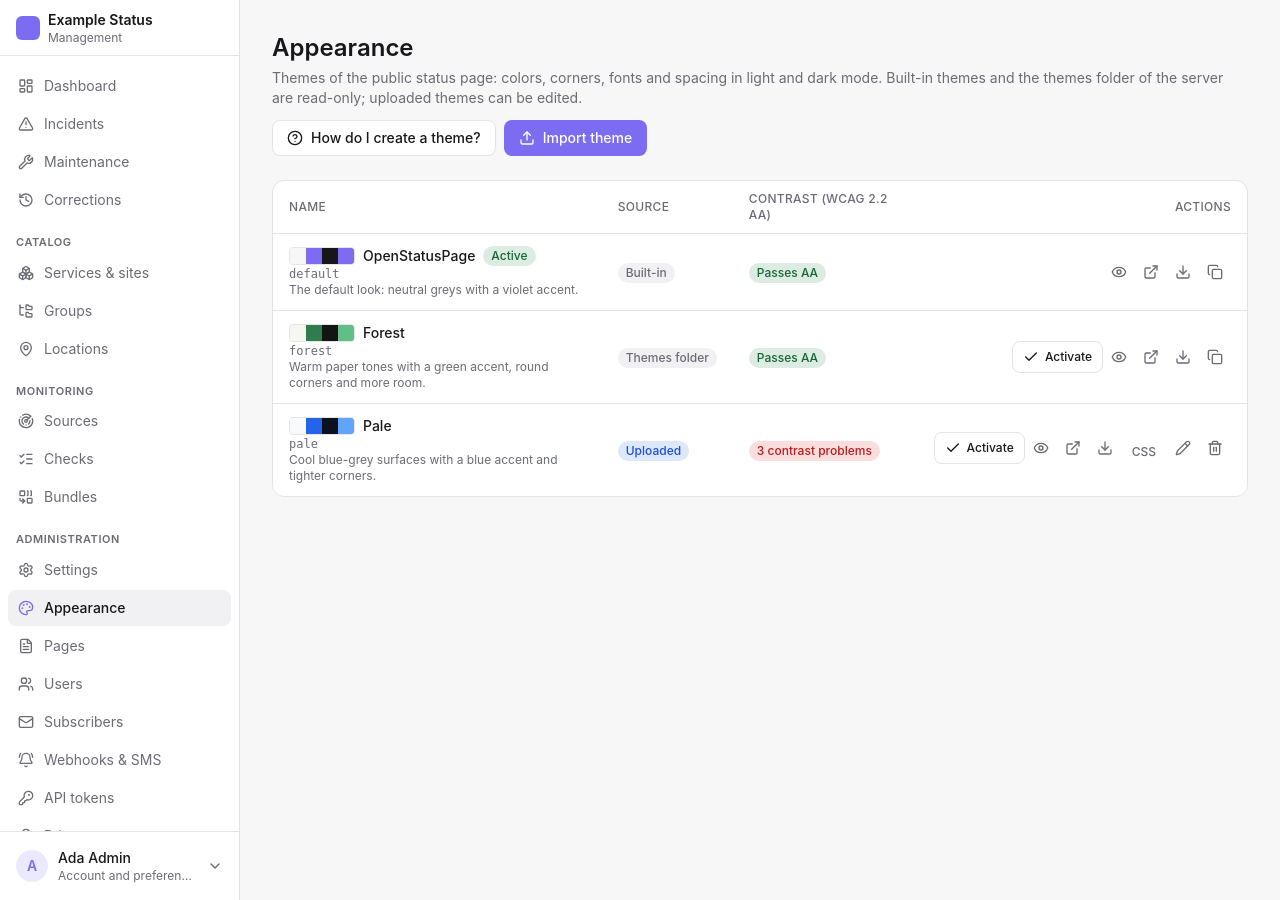
Appearance (en) › activating a theme that fails AA asks first and then sends the confirmation
Later steps or results of the test are not shown.
Step 1. Click the button "Activate" next to "3 contrast problems" → (979, 448), box top-left (934, 432), bottom-right (1025, 464)
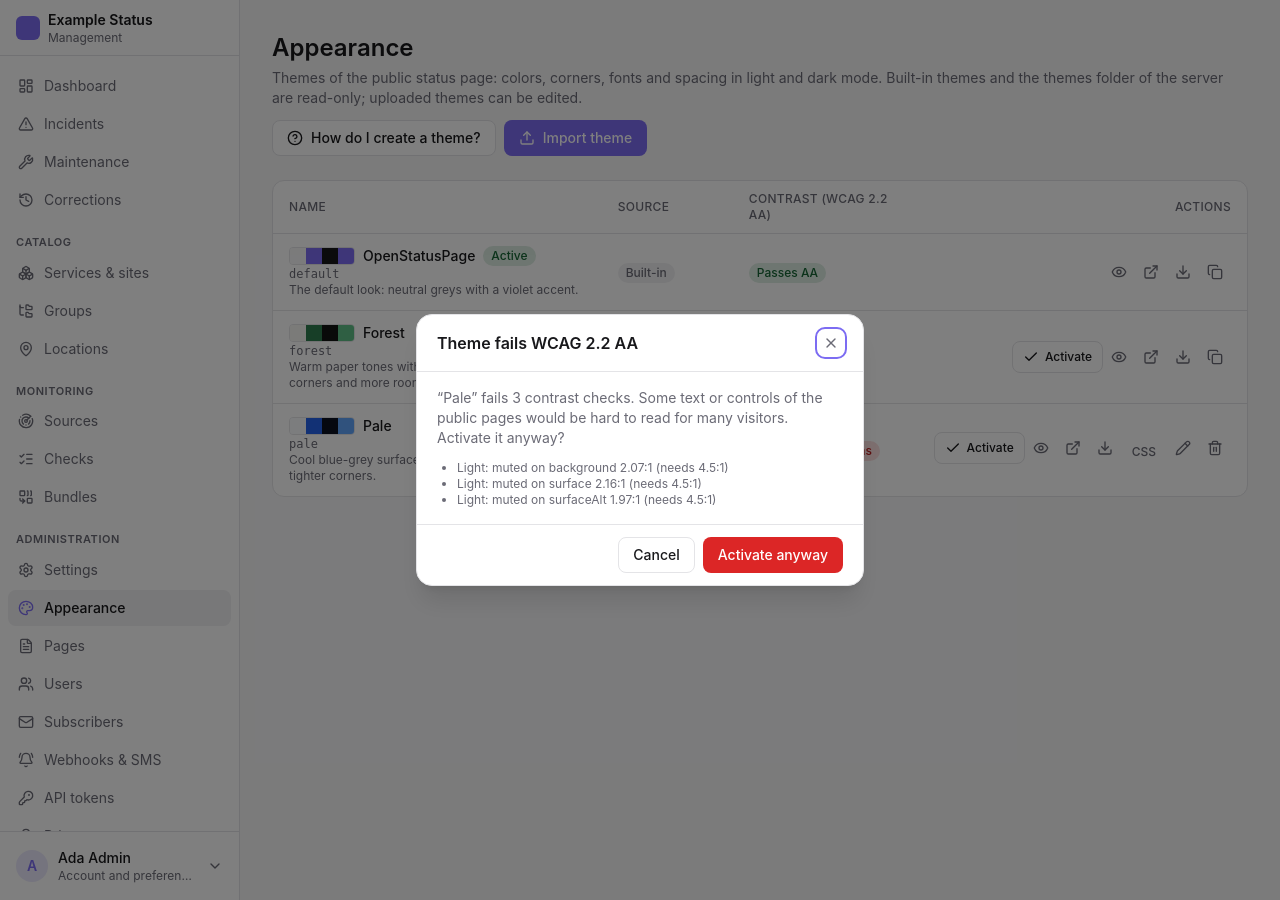
Result: the dialog shows "Theme fails WCAG 2.2 AA" at top-left (437, 333), bottom-right (638, 353)
Result: the button "Activate anyway" is shown at top-left (703, 537), bottom-right (843, 573)
